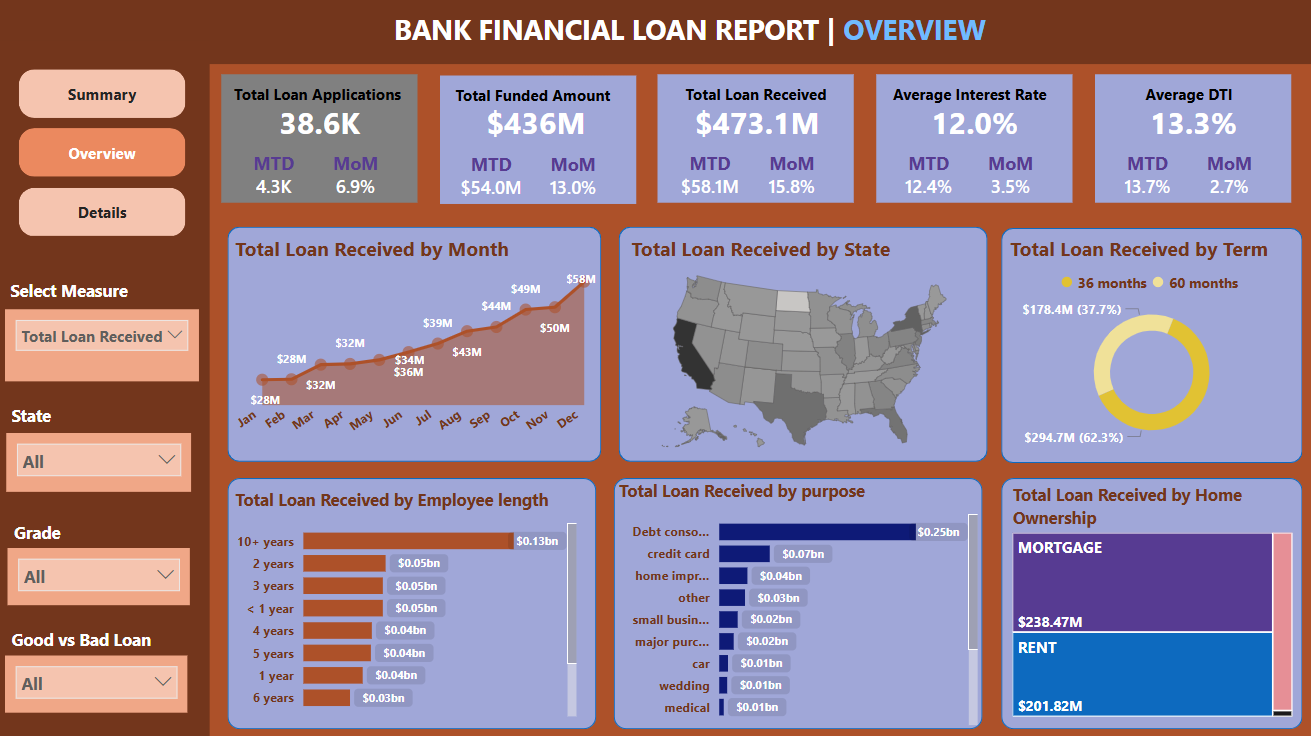

This screenshot's page, from the dashboard's own definition file:
{"tool":"powerbi","page":{"name":"Overview","canvas":[1280,720],"ordinal":1},"visuals":[{"type":"shape","box":[0,0,1280.3,68.6],"z":0},{"type":"shape","box":[218.4,78.4,189.4,124.3],"z":0,"group":"g1"},{"type":"shape","box":[640.1,78.4,189.4,124.3],"z":0,"group":"g3"},{"type":"shape","box":[850.9,78.4,189.4,124.3],"z":0,"group":"g4"},{"type":"shape","box":[1061.7,78.4,189.4,124.3],"z":0,"group":"g5"},{"type":"shape","box":[429.2,79.6,189.4,124.3],"z":0,"group":"g2"},{"type":"shape","box":[0,45.8,207.5,674.4],"z":1000},{"type":"card","fields":{"Values":["financial_loan.Total Loan Received"]},"box":[666.5,92.4,139.9,65.1],"z":1000,"group":"g3"},{"type":"card","fields":{"Values":["financial_loan.Total Loan Applications"]},"box":[263,96.5,101.3,57.9],"z":1000,"group":"g1"},{"type":"card","fields":{"Values":["financial_loan.Avg Interest Rate"]},"box":[895.2,96.5,101.3,57.9],"z":1000,"group":"g4"},{"type":"card","fields":{"Values":["financial_loan.Average DTI"]},"box":[1106.3,96.5,101.3,57.9],"z":1000,"group":"g5"},{"type":"card","fields":{"Values":["financial_loan.Total Funded Amount"]},"box":[459.1,96.9,125.5,57.9],"z":1000,"group":"g2"},{"type":"textbox","box":[380.1,12.3,591.4,65.9],"z":2000},{"type":"textbox","box":[207.5,82,211.1,43.4],"z":2000,"group":"g1"},{"type":"textbox","box":[628.6,82,211.1,43.4],"z":2000,"group":"g3"},{"type":"textbox","box":[839.7,82,211.1,43.4],"z":2000,"group":"g4"},{"type":"textbox","box":[1050.8,82,211.1,43.4],"z":2000,"group":"g5"},{"type":"textbox","box":[417.4,83.2,211.1,43.4],"z":2000,"group":"g2"},{"type":"group","id":"g1","title":"Group 1","box":[207.5,78.4,211.1,124.3],"z":3000},{"type":"card","title":"MTD ","fields":{"Values":["financial_loan.MTD Loan Applications"]},"box":[224.4,152,89.3,50.7],"z":3000,"group":"g1"},{"type":"card","title":"MTD ","fields":{"Values":["financial_loan.MTD Loan Recieved"]},"box":[645.5,152,89.3,50.7],"z":3000,"group":"g3"},{"type":"card","title":"MTD ","fields":{"Values":["financial_loan.MTD Avg Interest Rate"]},"box":[856.6,152,89.3,50.7],"z":3000,"group":"g4"},{"type":"card","title":"MTD ","fields":{"Values":["financial_loan.MTD Avg DTI"]},"box":[1067.7,152,89.3,50.7],"z":3000,"group":"g5"},{"type":"card","title":"MTD ","fields":{"Values":["financial_loan.MTD Funded Amount"]},"box":[434.3,153.2,89.3,50.7],"z":3000,"group":"g2"},{"type":"group","id":"g2","title":"Group 1","box":[417.4,79.6,211.1,124.3],"z":4000},{"type":"card","title":"MoM ","fields":{"Values":["financial_loan.MoM Loan Applications"]},"box":[304,152,88.1,50.7],"z":4000,"group":"g1"},{"type":"card","title":"MoM ","fields":{"Values":["financial_loan.MoM Loan Received"]},"box":[725.1,152,88.1,50.7],"z":4000,"group":"g3"},{"type":"card","title":"MoM ","fields":{"Values":["financial_loan.MoM Avg Int rate"]},"box":[936.2,152,88.1,50.7],"z":4000,"group":"g4"},{"type":"card","title":"MoM ","fields":{"Values":["financial_loan.MoM Avg DTI"]},"box":[1147.3,152,88.1,50.7],"z":4000,"group":"g5"},{"type":"card","title":"MoM ","fields":{"Values":["financial_loan.MoM Funded Amount"]},"box":[513.9,153.2,88.1,50.7],"z":4000,"group":"g2"},{"type":"group","id":"g3","title":"Group 1","box":[628.6,78.4,211.1,124.3],"z":5000},{"type":"shape","box":[224.4,225.6,360.7,226.8],"z":6000},{"type":"group","id":"g4","title":"Group 1","box":[839.7,78.4,211.1,124.3],"z":7000},{"type":"group","id":"g5","title":"Group 1","box":[1050.8,78.4,211.1,124.3],"z":8000},{"type":"slicer","fields":{"Values":["financial_loan.address_state"]},"box":[10.9,424.7,178.6,56.7],"z":9000},{"type":"textbox","box":[10.9,392.1,112.2,32.6],"z":10000},{"type":"slicer","fields":{"Values":["financial_loan.grade"]},"box":[12.1,535.7,176.1,55.5],"z":11000},{"type":"textbox","box":[13.3,504.3,86.9,31.4],"z":12000},{"type":"slicer","fields":{"Values":["financial_loan.Good vs Bad loan"]},"box":[9.7,639.4,176.1,55.5],"z":13000},{"type":"textbox","box":[10.9,608,178.6,31.4],"z":14000},{"type":"areaChart","fields":{"Y":["financial_loan.Total Loan Received"],"Category":["Date Table.Month"]},"box":[226.8,234,358.3,209.9],"z":15000},{"type":"slicer","fields":{"Values":["Select Measure.Select Measure"]},"box":[9.7,305.2,187,70],"z":16000},{"type":"textbox","box":[9.7,271.4,136.3,33.8],"z":17000},{"type":"shape","box":[602,225.6,355.9,226.8],"z":18000},{"type":"shapeMap","fields":{"Category":["financial_loan.address_state"],"Value":["financial_loan.Total Loan Received"]},"box":[609.3,234,343.8,218.4],"z":19000},{"type":"shape","box":[971.2,226.8,290.8,226.8],"z":20000},{"type":"donutChart","fields":{"Category":["financial_loan.term"],"Y":["financial_loan.Total Loan Received"]},"box":[974.8,234,283.5,209.9],"z":21000},{"type":"shape","box":[224.4,468.1,355.9,242.5],"z":22000},{"type":"barChart","fields":{"Y":["financial_loan.Total Loan Received"],"Category":["financial_loan.emp_length"]},"box":[226.8,477.8,339,225.6],"z":23000},{"type":"shape","box":[597.2,468.1,355.9,242.5],"z":24000},{"type":"barChart","fields":{"Category":["financial_loan.purpose"],"Y":["financial_loan.Total Loan Received"]},"box":[597.2,469.3,355.9,242.5],"z":25000},{"type":"shape","box":[971.2,468.1,290.8,242.5],"z":25001},{"type":"treemap","fields":{"Group":["financial_loan.home_ownership"],"Values":["financial_loan.Total Loan Received"]},"box":[977.2,472.9,279.9,230.4],"z":25002},{"type":"pageNavigator","box":[22.9,73.6,161.7,162.9],"z":25003}]}

Visuals, with their boxes in screenshot pixels (x1, y1, x2, y2), scaled from the page's 1280x720 canvas onto the 1311x736 screenshot:
shape: [0,0,1310,70]
shape: [224,80,418,207]
shape: [656,80,850,207]
shape: [872,80,1065,207]
shape: [1087,80,1281,207]
shape: [440,81,634,208]
shape: [0,47,213,735]
card - financial_loan.Total Loan Received: [683,94,826,161]
card - financial_loan.Total Loan Applications: [269,99,373,158]
card - financial_loan.Avg Interest Rate: [917,99,1021,158]
card - financial_loan.Average DTI: [1133,99,1237,158]
card - financial_loan.Total Funded Amount: [470,99,599,158]
textbox: [389,13,995,80]
textbox: [213,84,429,128]
textbox: [644,84,860,128]
textbox: [860,84,1076,128]
textbox: [1076,84,1292,128]
textbox: [428,85,644,129]
"Group 1" group: [213,80,429,207]
"MTD " card: [230,155,321,207]
"MTD " card: [661,155,753,207]
"MTD " card: [877,155,969,207]
"MTD " card: [1094,155,1185,207]
"MTD " card: [445,157,536,208]
"Group 1" group: [428,81,644,208]
"MoM " card: [311,155,402,207]
"MoM " card: [743,155,833,207]
"MoM " card: [959,155,1049,207]
"MoM " card: [1175,155,1265,207]
"MoM " card: [526,157,617,208]
"Group 1" group: [644,80,860,207]
shape: [230,231,599,462]
"Group 1" group: [860,80,1076,207]
"Group 1" group: [1076,80,1292,207]
slicer - financial_loan.address_state: [11,434,194,492]
textbox: [11,401,126,434]
slicer - financial_loan.grade: [12,548,193,604]
textbox: [14,516,103,548]
slicer - financial_loan.Good vs Bad loan: [10,654,190,710]
textbox: [11,622,194,654]
areaChart - financial_loan.Total Loan Received x Date Table.Month: [232,239,599,454]
slicer - Select Measure.Select Measure: [10,312,201,384]
textbox: [10,277,150,312]
shape: [617,231,981,462]
shapeMap - financial_loan.address_state x financial_loan.Total Loan Received: [624,239,976,462]
shape: [995,232,1293,464]
donutChart - financial_loan.term x financial_loan.Total Loan Received: [998,239,1289,454]
shape: [230,479,594,726]
barChart - financial_loan.Total Loan Received x financial_loan.emp_length: [232,488,580,719]
shape: [612,479,976,726]
barChart - financial_loan.purpose x financial_loan.Total Loan Received: [612,480,976,728]
shape: [995,479,1293,726]
treemap - financial_loan.home_ownership x financial_loan.Total Loan Received: [1001,483,1288,719]
pageNavigator: [23,75,189,242]
